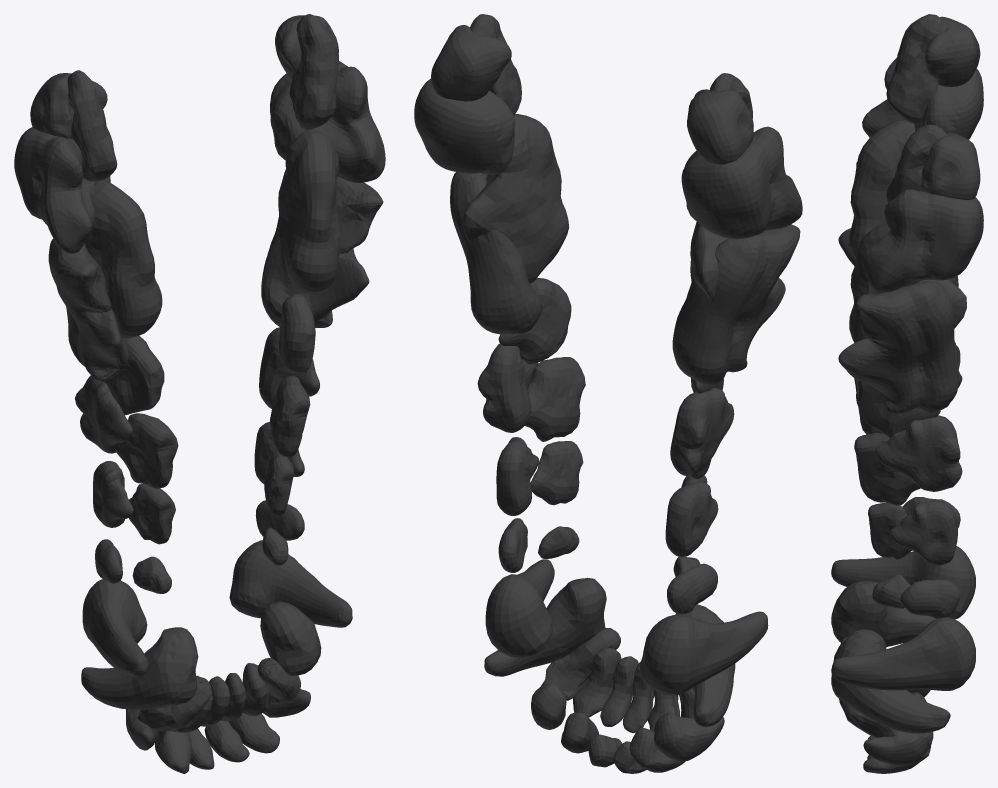
The model's file is B_Teeth.glb.
3 renders of one model, left to right at view 1: azimuth 30°, elevation 25°; view 2: azimuth 150°, elevation 25°; view 3: azimuth 270°, elevation 25°, orthographic. The views are drawn at different scales.
Parts seen in each view (by area): view 1: B_Teeth; view 2: B_Teeth; view 3: B_Teeth.
Part boxes in pixels (box(x1,y1,x2,y2)): B_Teeth: box(14, 14, 385, 773); B_Teeth: box(414, 14, 802, 773); B_Teeth: box(831, 14, 983, 773).
Bounding box in the file's own units: 0.00311 × 0.0063 × 0.00127.
Materials: 1 (1 with a texture image).
